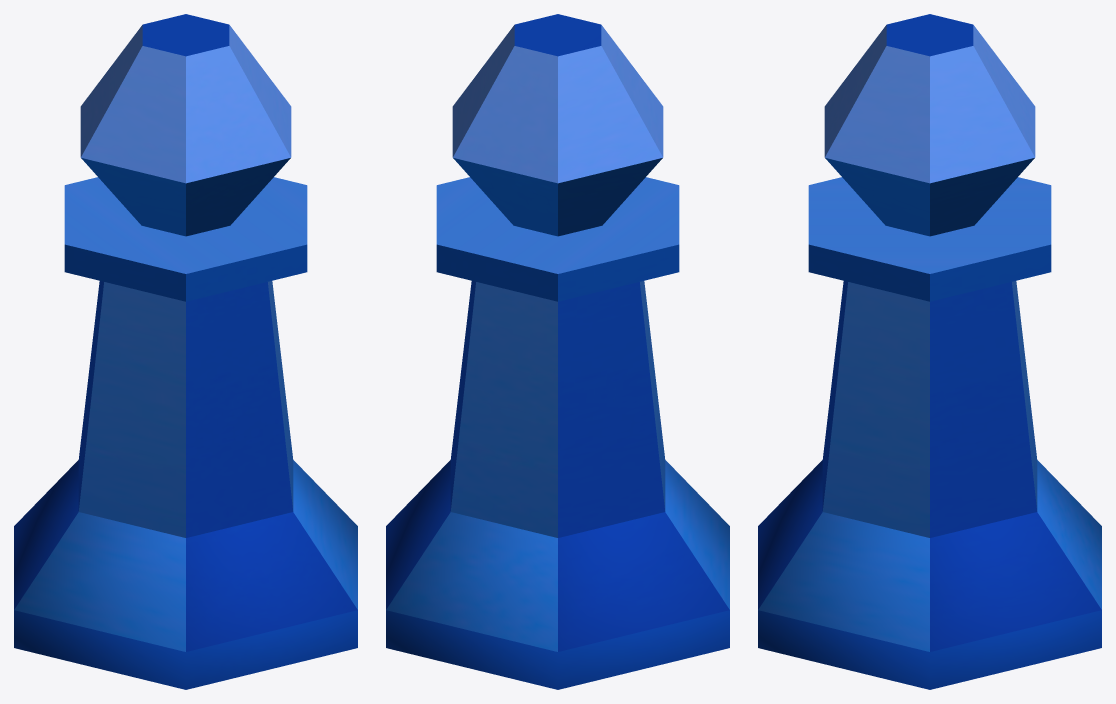
The model's file is SM_ChestPiece.fbx.
3 renders of one model, left to right at view 1: azimuth 30°, elevation 25°; view 2: azimuth 150°, elevation 25°; view 3: azimuth 270°, elevation 25°, orthographic.
Visible parts, largest first — view 1: SM_ChestPiece; view 2: SM_ChestPiece; view 3: SM_ChestPiece.
Boxes of the visible parts, x1,y1,x2,y2 form: SM_ChestPiece: (14,14,357,689); SM_ChestPiece: (386,14,729,689); SM_ChestPiece: (758,14,1101,689).
Size of the model in its own units: 9.5 by 15.07 by 8.23.
